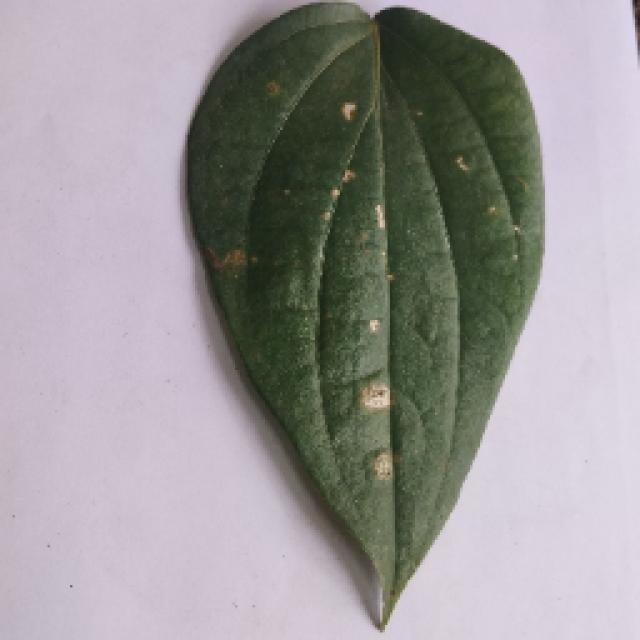pollu-disease: (128, 18, 610, 632)
